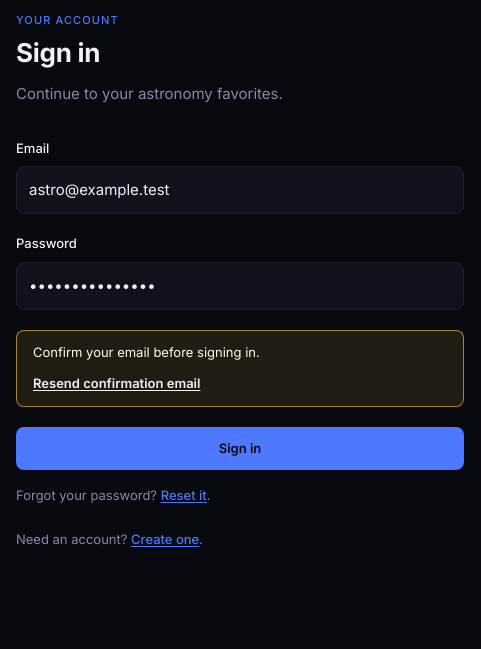
LoginComponent › offers a resend CTA only for the email_unconfirmed 403 and sends its typed request
The width and height of the screenshot is (481, 649).
Click the button "Resend confirmation email": (117, 384) [33,374,200,394]
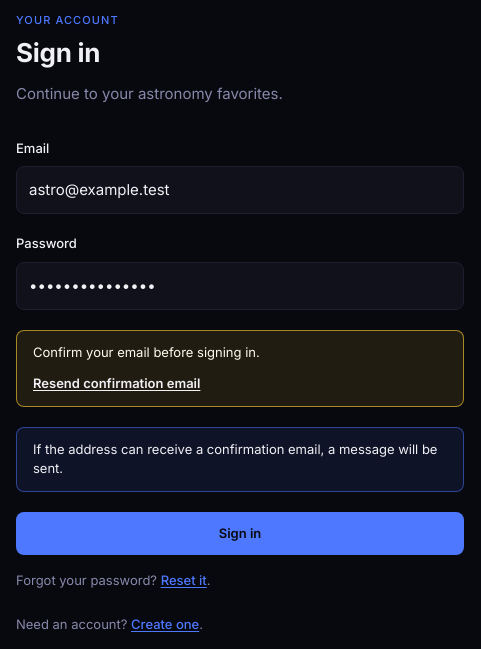
Now the message "If the address can receive a confirmation email, a message will be sent." is shown, box [16,426,464,492]
